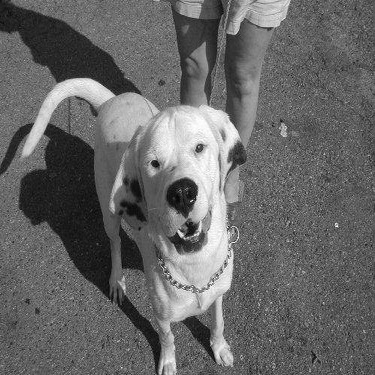dog: (14, 70, 255, 372)
